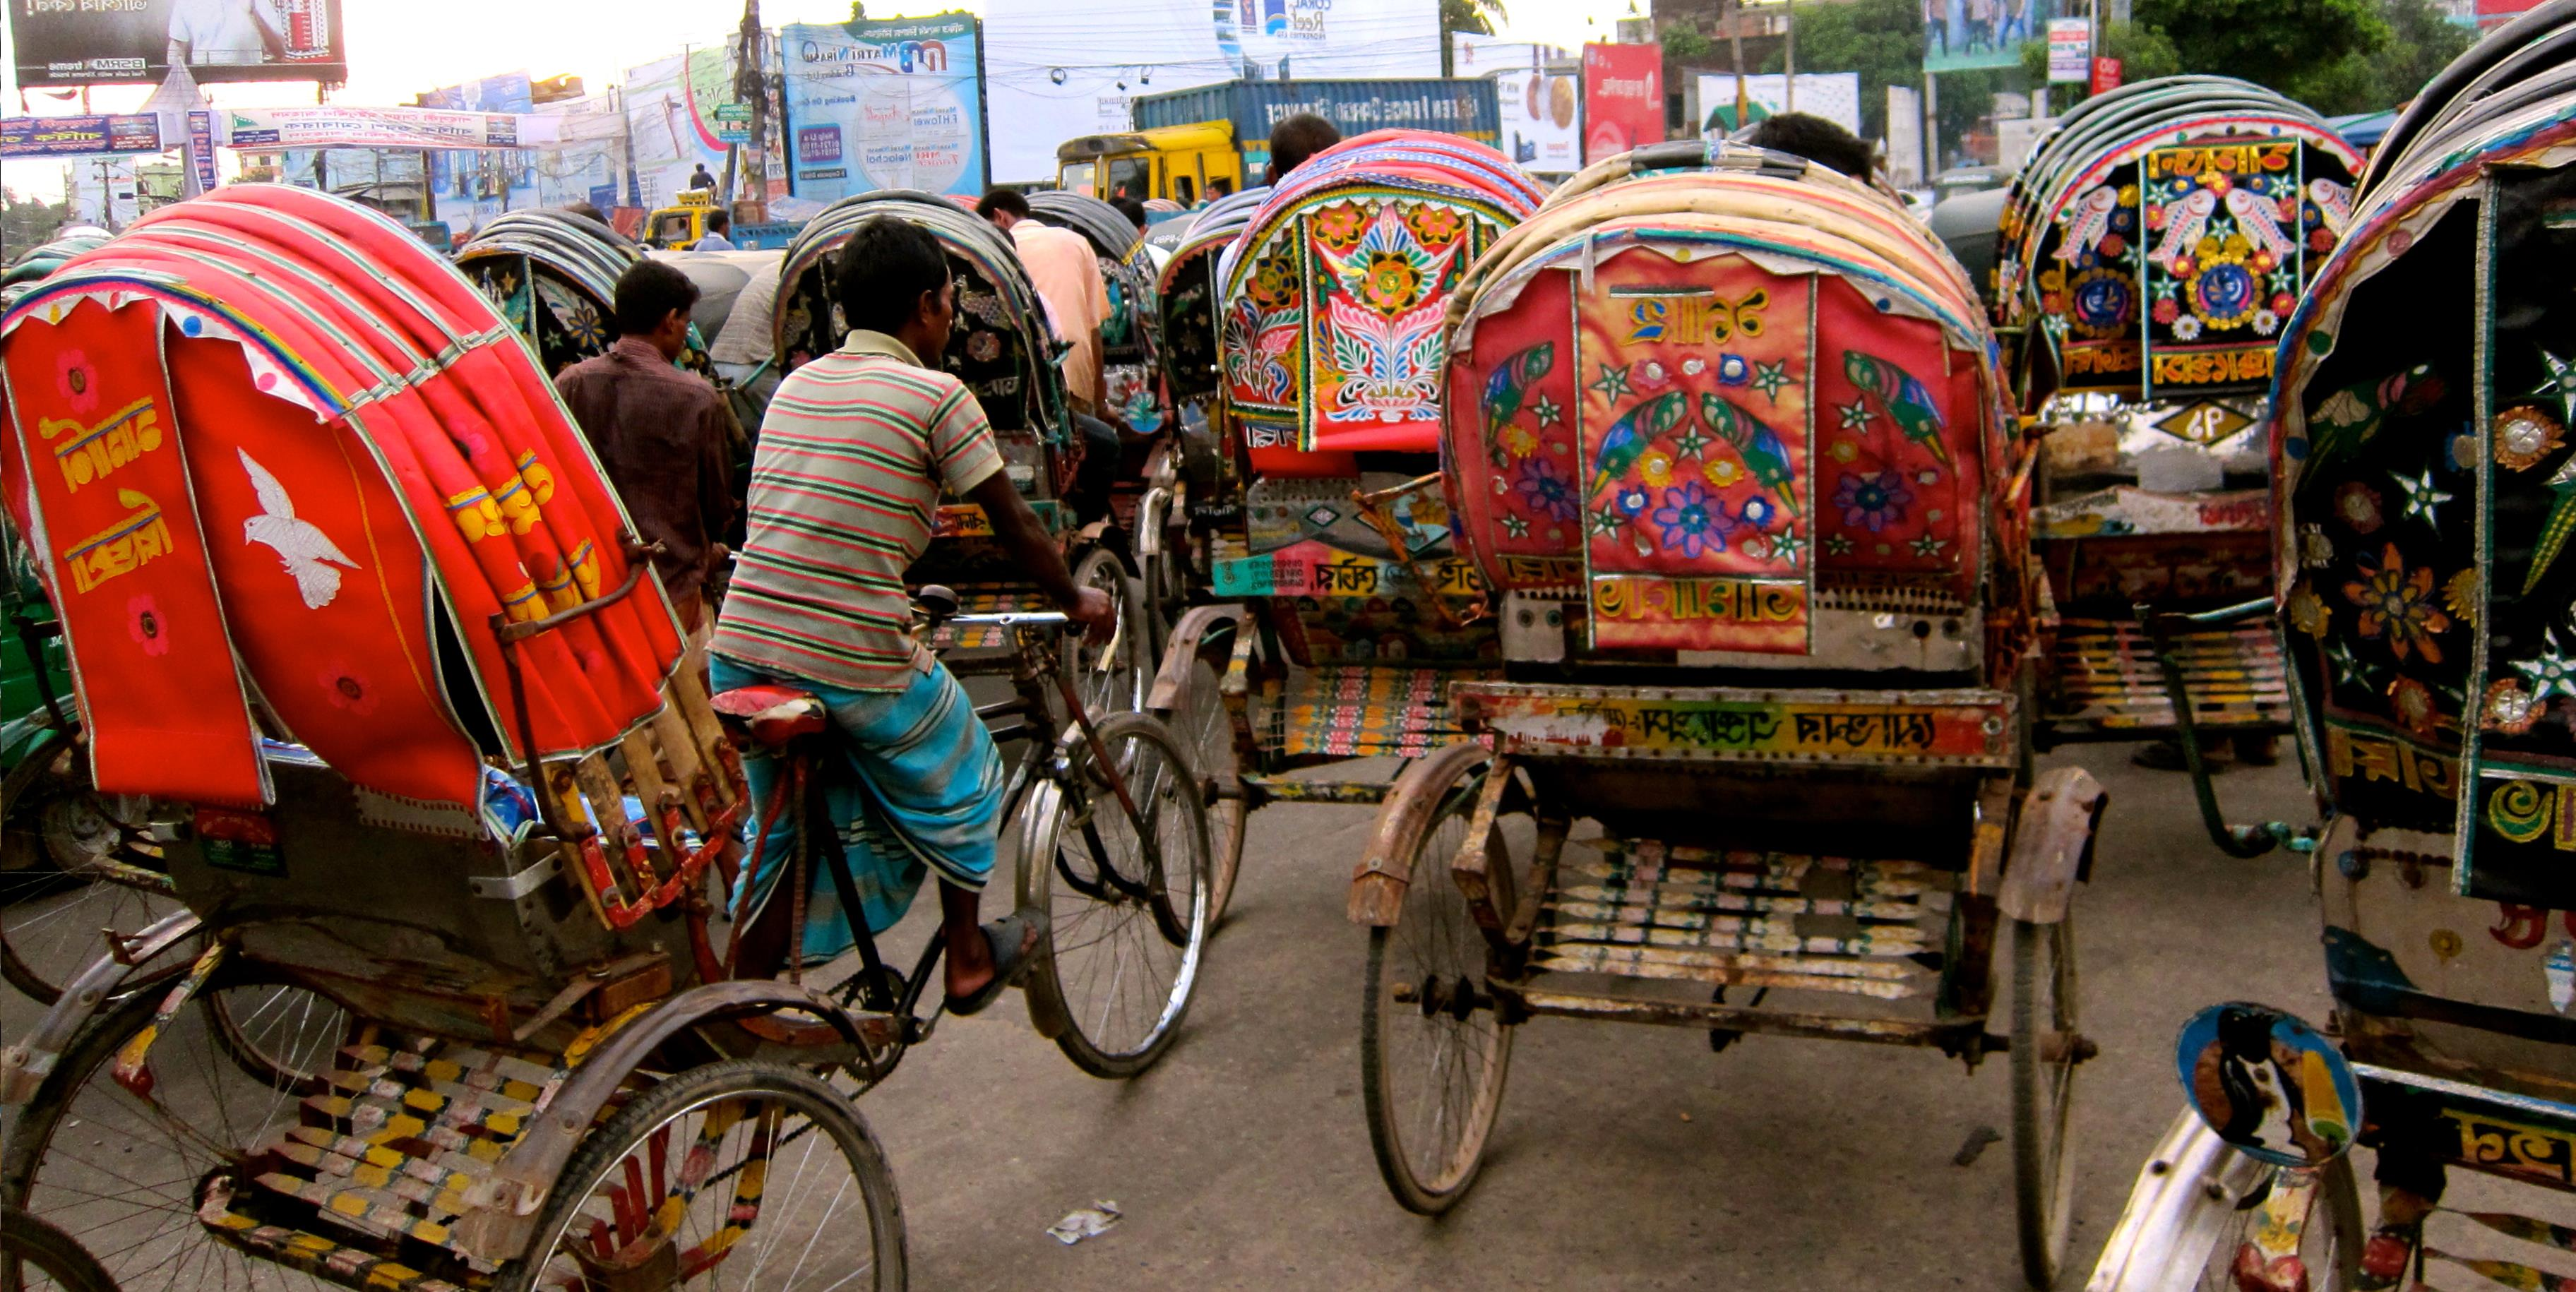Rickshaw: (13, 158, 1187, 1290), (1389, 104, 2091, 1233), (2279, 18, 2566, 1282), (1973, 49, 2373, 850), (724, 124, 1145, 789), (1215, 79, 1553, 837), (991, 138, 1203, 541), (455, 170, 730, 480)
